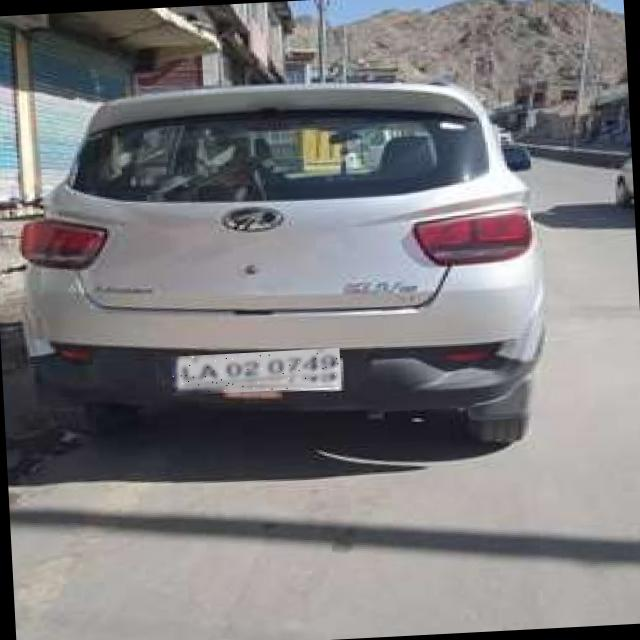Plate: (172, 349, 343, 397)
